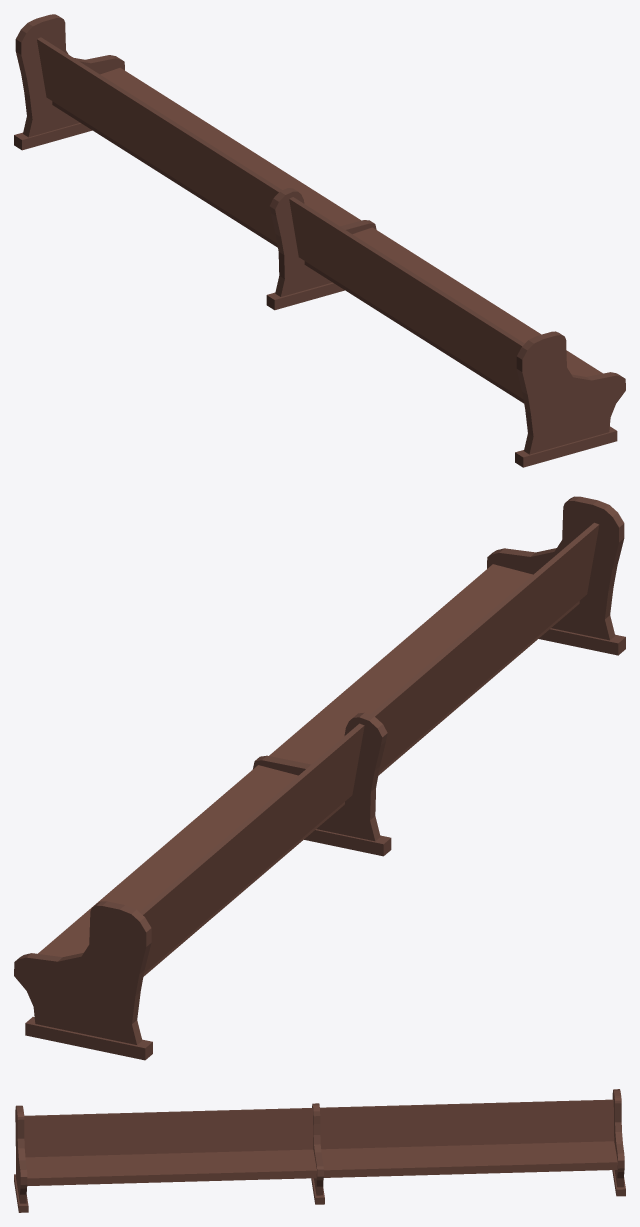
Rendered from church_bench.fbx.
3 renders of one model, top to bottom at view 1: azimuth 30°, elevation 25°; view 2: azimuth 150°, elevation 25°; view 3: azimuth 270°, elevation 25°, orthographic. The views are drawn at different scales.
Parts seen in each view (by area): view 1: church_bench; view 2: church_bench; view 3: church_bench.
Part boxes in pixels (x1,y1,x2,y2): church_bench: (14, 14, 625, 467); church_bench: (14, 496, 625, 1060); church_bench: (14, 1089, 625, 1212).
Bounding box in the file's own units: 139 × 101 × 694.
